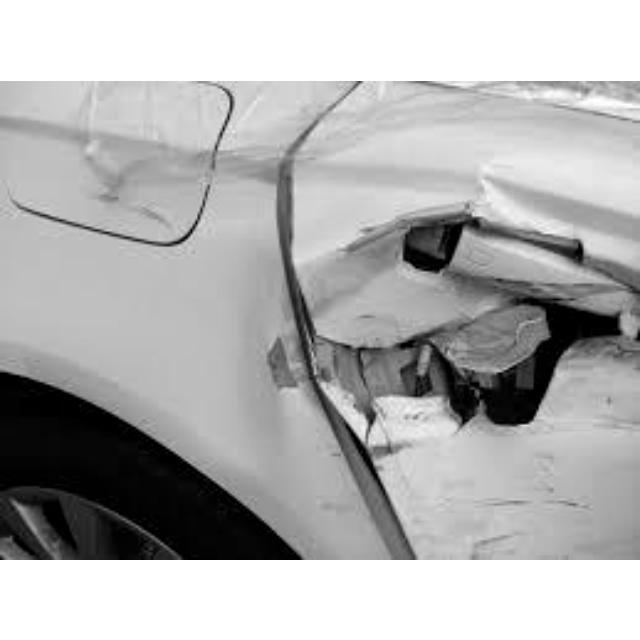doorouter-dent: (357, 88, 638, 557)
